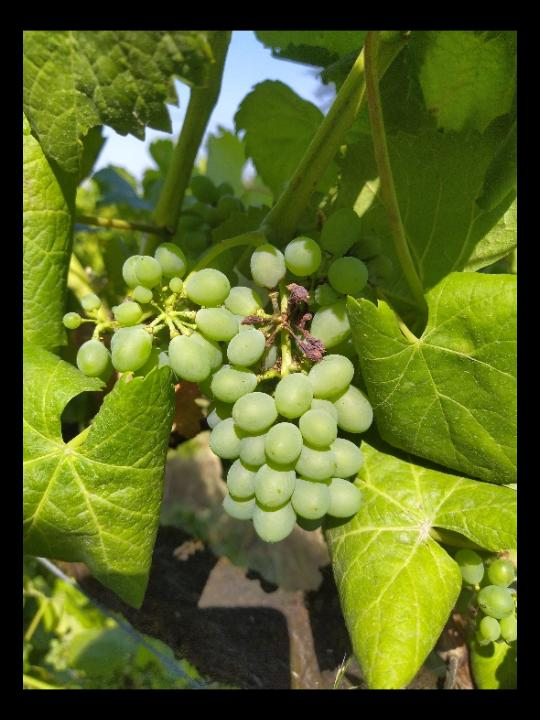grape: (60, 205, 395, 547)
